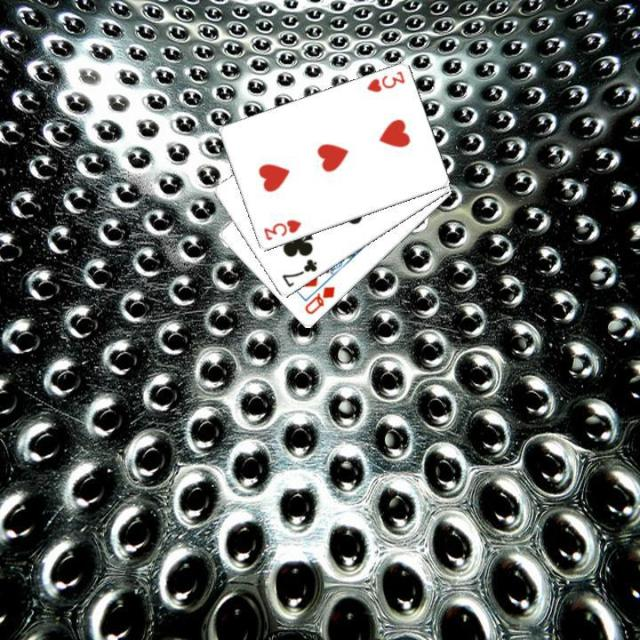3H: (260, 216, 303, 243), (363, 68, 406, 94)
7C: (278, 255, 319, 289)
QD: (300, 282, 337, 316)
